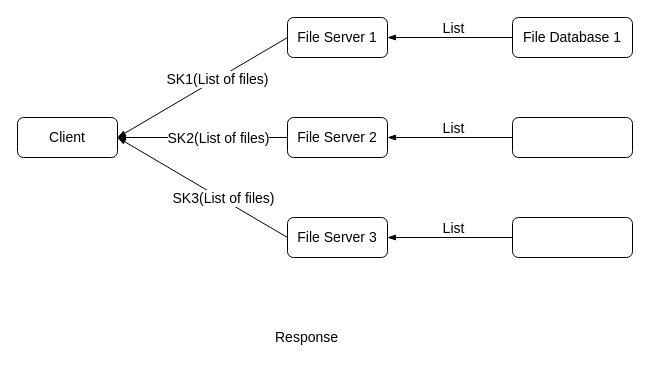
Image size: 650x365. Some labels were removed from this diagram. The shapes that lost their labels are listed below. From the top down, each one's box as (x1, y1, x2, y2) in pixels, then its label:
(512, 116, 632, 158): File Database 2
(512, 216, 632, 258): File Database 3
